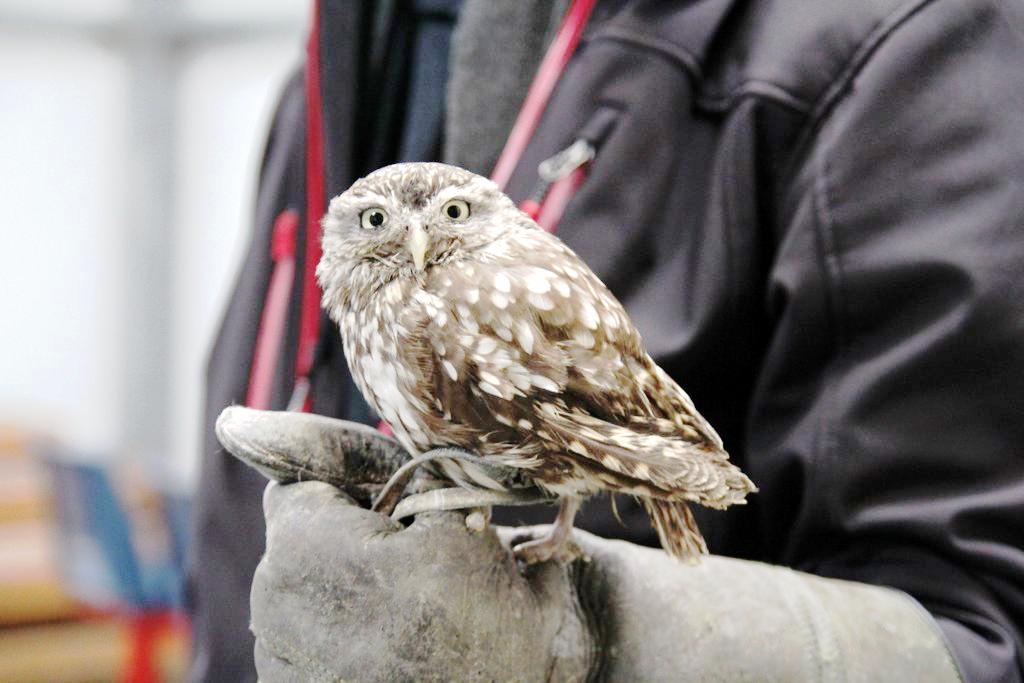Owl: (309, 154, 753, 590)
